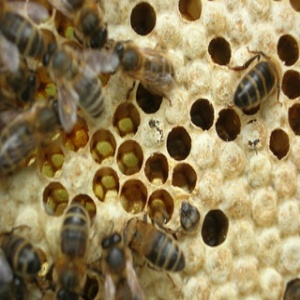bee: (43, 39, 106, 136), (110, 39, 181, 108), (230, 48, 283, 116), (125, 219, 187, 269)
